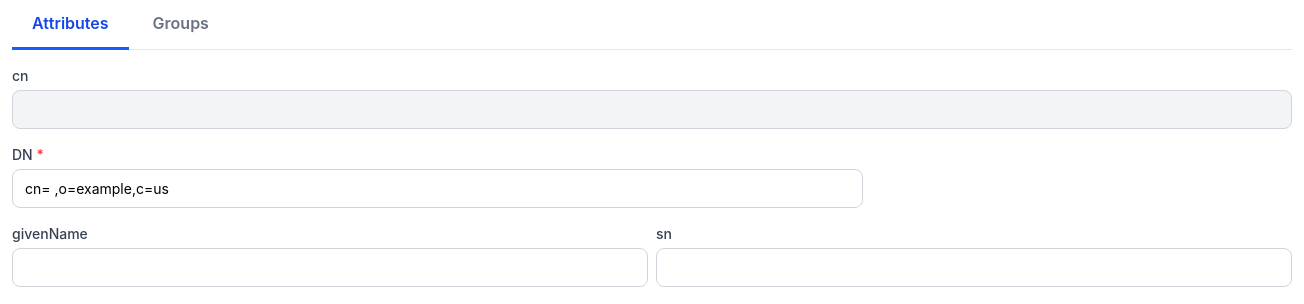
Test: UserForm — computed attribute that is also the RDN › shows the full computed value in the RDN field, not just the first letter
Type "John" into the field labelled "givenName".
click(330, 268); type("John")  # box x1=12 y1=248 x2=648 y2=287
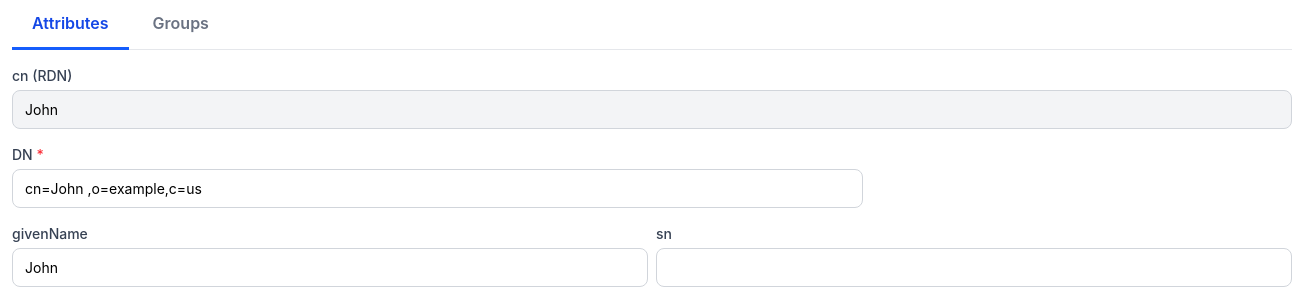
Type "Smith" into the field labelled "sn".
click(974, 268); type("Smith")  # box x1=656 y1=248 x2=1292 y2=287
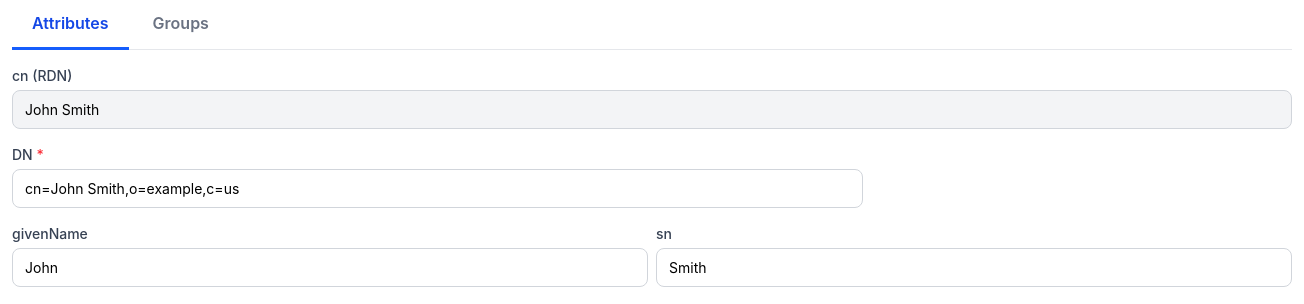
Expected: the field labelled "cn (RDN)" is disabled, x1=12 y1=90 x2=1292 y2=129
Expected: the field labelled "cn (RDN)" holds "John Smith", x1=12 y1=90 x2=1292 y2=129
